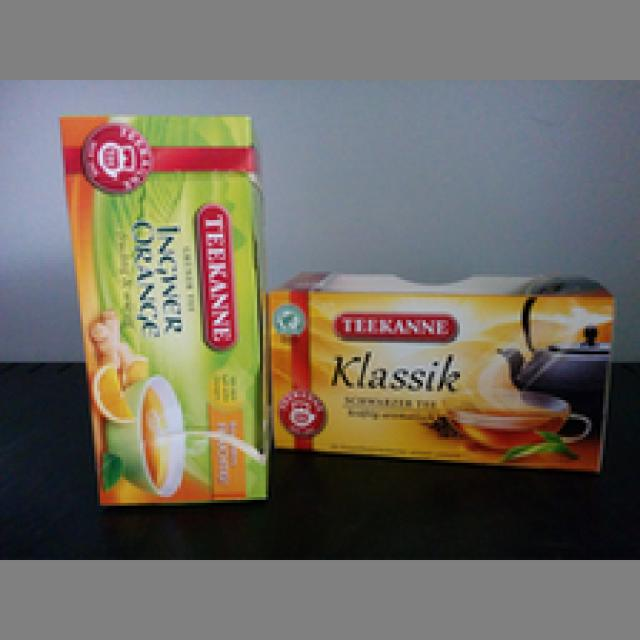groceries: (57, 109, 263, 500), (266, 272, 611, 468)
